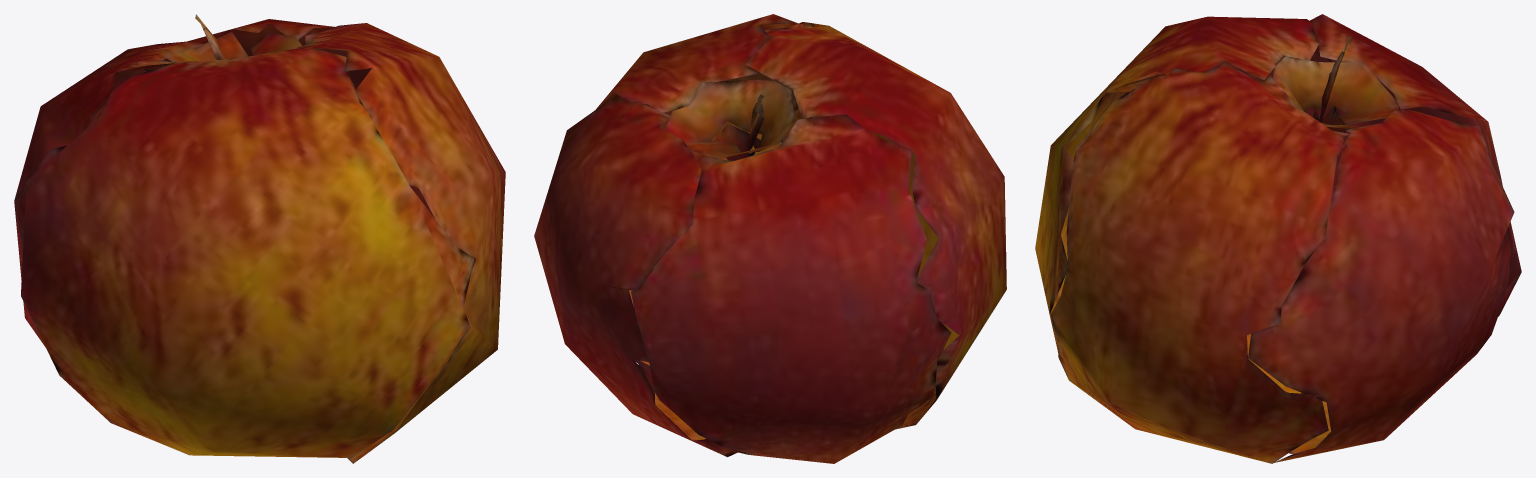
File: obj_apple.glb
3 renders of one model, left to right at view 1: azimuth 30°, elevation 25°; view 2: azimuth 150°, elevation 25°; view 3: azimuth 270°, elevation 25°, orthographic. The views are drawn at different scales.
Visible parts, largest first — view 1: obj_apple; view 2: obj_apple; view 3: obj_apple.
Part boxes in pixels (left/top/right/bottom): obj_apple: left=14, top=14, right=505, bottom=463; obj_apple: left=534, top=14, right=1006, bottom=463; obj_apple: left=1035, top=14, right=1521, bottom=463.
Size of the model in its own units: 0.1009 by 0.0832 by 0.0969.
1 material, 1 textured.
